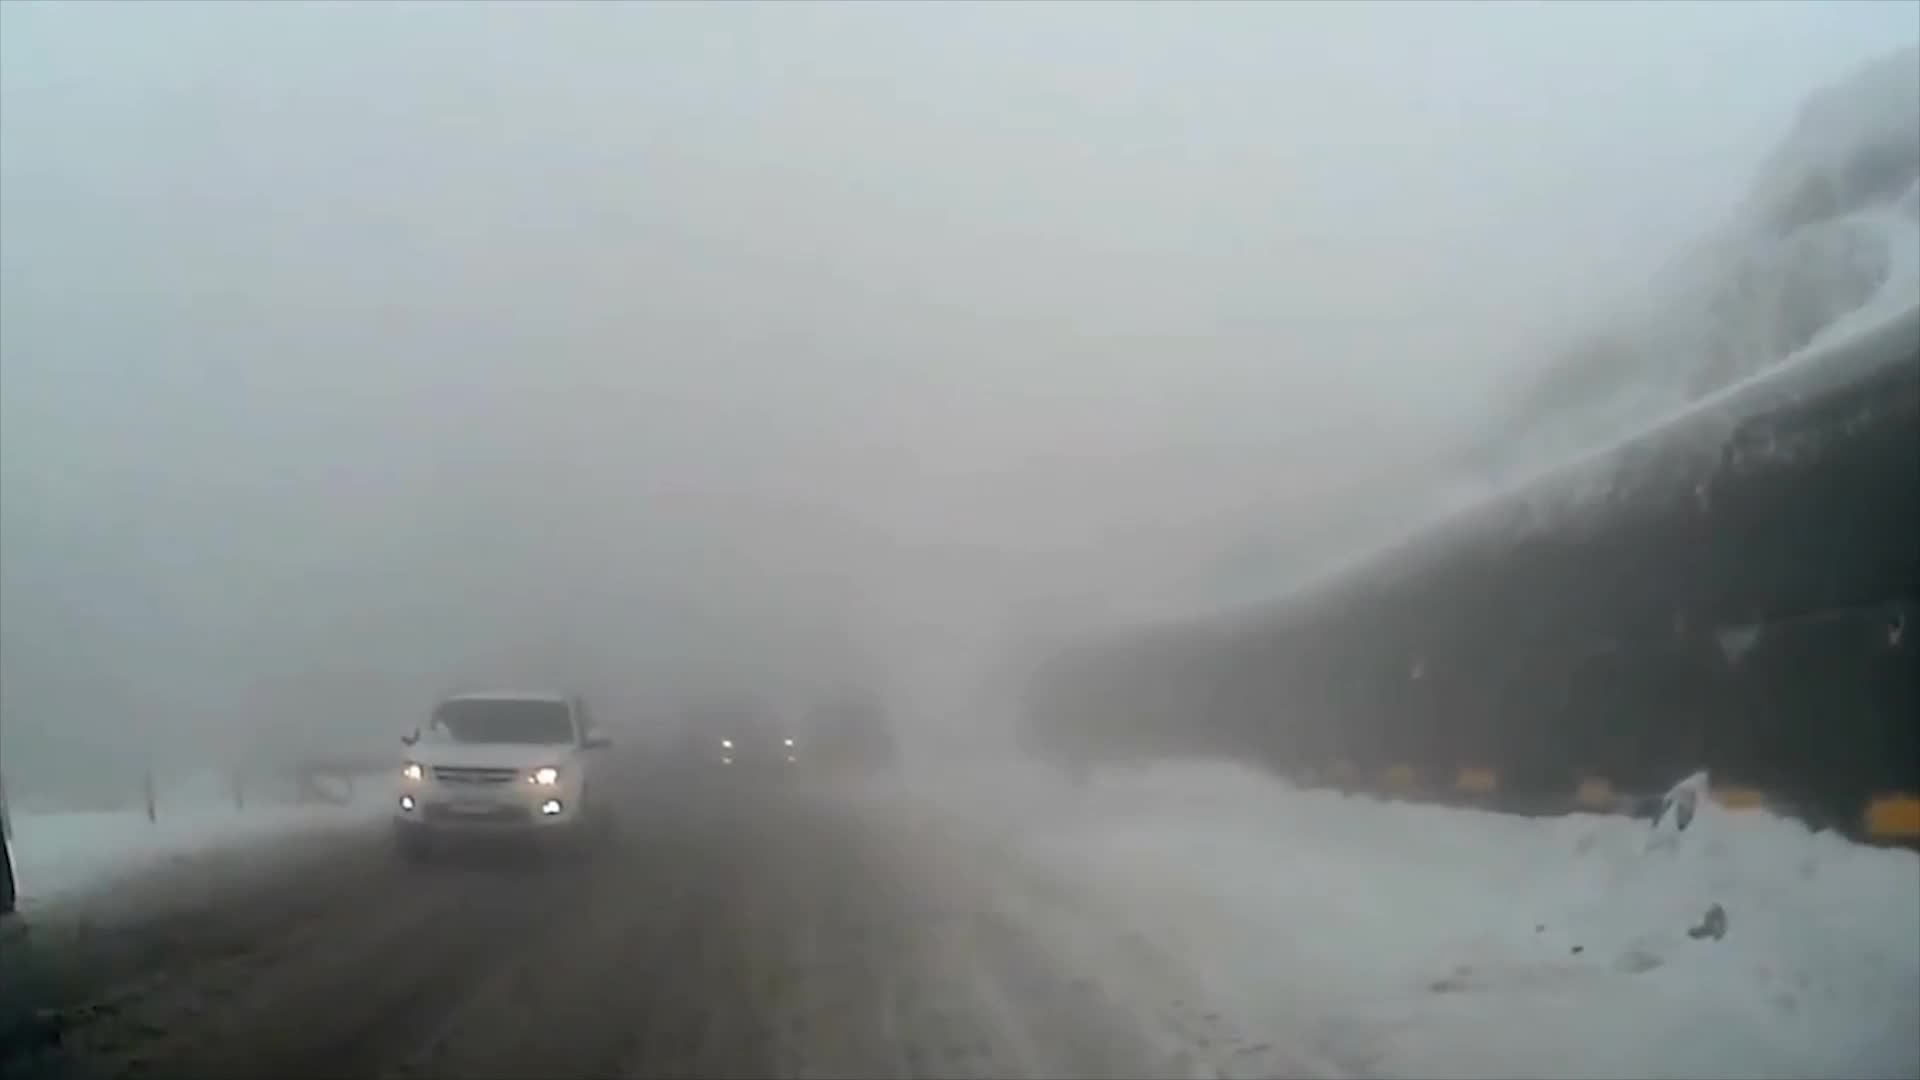vehicle: (388, 684, 618, 862), (0, 789, 42, 1080), (680, 694, 800, 787)
